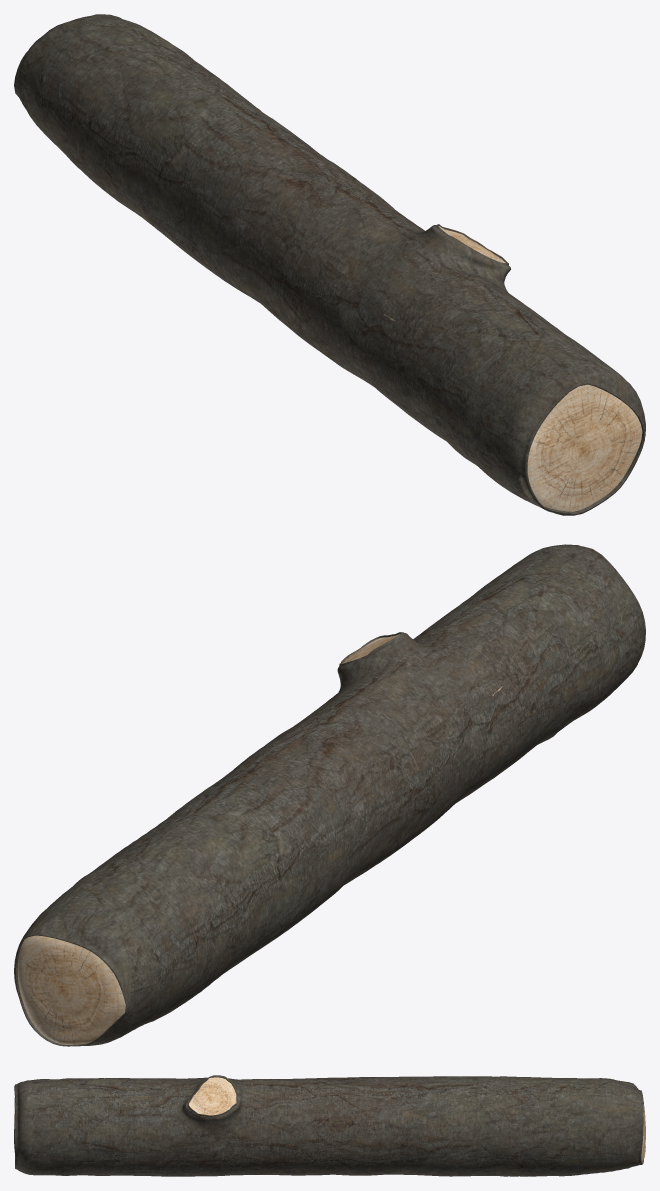
The model's file is TreeLog_01.fbx.
3 renders of one model, top to bottom at view 1: azimuth 30°, elevation 25°; view 2: azimuth 150°, elevation 25°; view 3: azimuth 270°, elevation 25°, orthographic. The views are drawn at different scales.
Visible parts, largest first — view 1: TreeLog.001; view 2: TreeLog.001; view 3: TreeLog.001.
Boxes of the visible parts, left/top/right/bottom form: TreeLog.001: left=14, top=14, right=645, bottom=515; TreeLog.001: left=14, top=544, right=645, bottom=1046; TreeLog.001: left=14, top=1075, right=645, bottom=1176.
Bounding box in the file's own units: 217 × 235 × 1323.
1 material, 1 textured.
